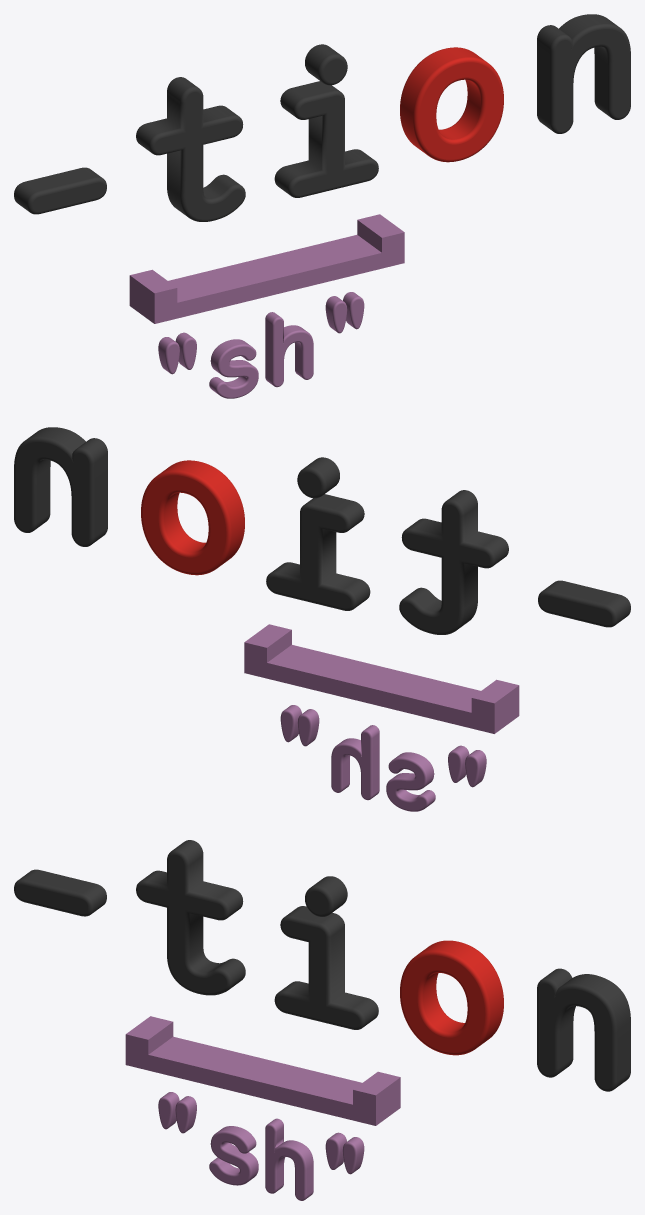
Rendered from -tion.gltf.
3 renders of one model, top to bottom at view 1: azimuth 30°, elevation 25°; view 2: azimuth 150°, elevation 25°; view 3: azimuth 330°, elevation 25°, orthographic.
Parts seen in each view (by area): view 1: Text, Cube.001, Text.002, Text.001; view 2: Text, Cube.001, Text.002, Text.001; view 3: Text, Cube.001, Text.002, Text.001.
Boxes of the visible parts, box(x1,y1,x2,y2) form: Text: box(14, 14, 630, 221); Cube.001: box(129, 214, 404, 323); Text.002: box(400, 47, 503, 162); Text.001: box(158, 292, 364, 398); Text: box(14, 427, 630, 634); Cube.001: box(244, 624, 519, 733); Text.002: box(141, 460, 244, 575); Text.001: box(280, 705, 486, 811); Text: box(14, 840, 630, 1091); Cube.001: box(125, 1016, 400, 1125); Text.002: box(400, 940, 503, 1055); Text.001: box(158, 1092, 364, 1200).
Bounding box in the file's own units: 2.68 × 1.38 × 0.1906.
